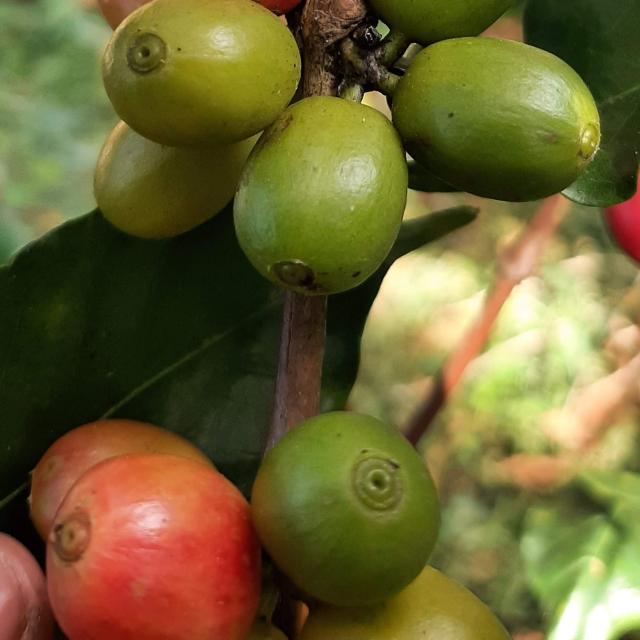green: (251, 412, 440, 607), (234, 95, 408, 296), (393, 36, 602, 201), (102, 0, 301, 147), (93, 120, 259, 239), (300, 567, 512, 640), (370, 0, 514, 44)
yellow: (46, 455, 261, 640), (28, 420, 215, 541), (0, 534, 53, 640)
